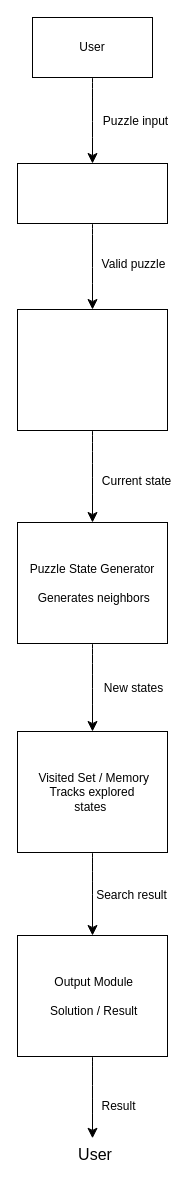
The diagram is 188 pixels wide and 1187 high, and some of its shapes have lost their labels. Each missing label, with the centre of its shape:
Input Module: point (92, 193)
Search Engine BFS / DFS: point (92, 369)
